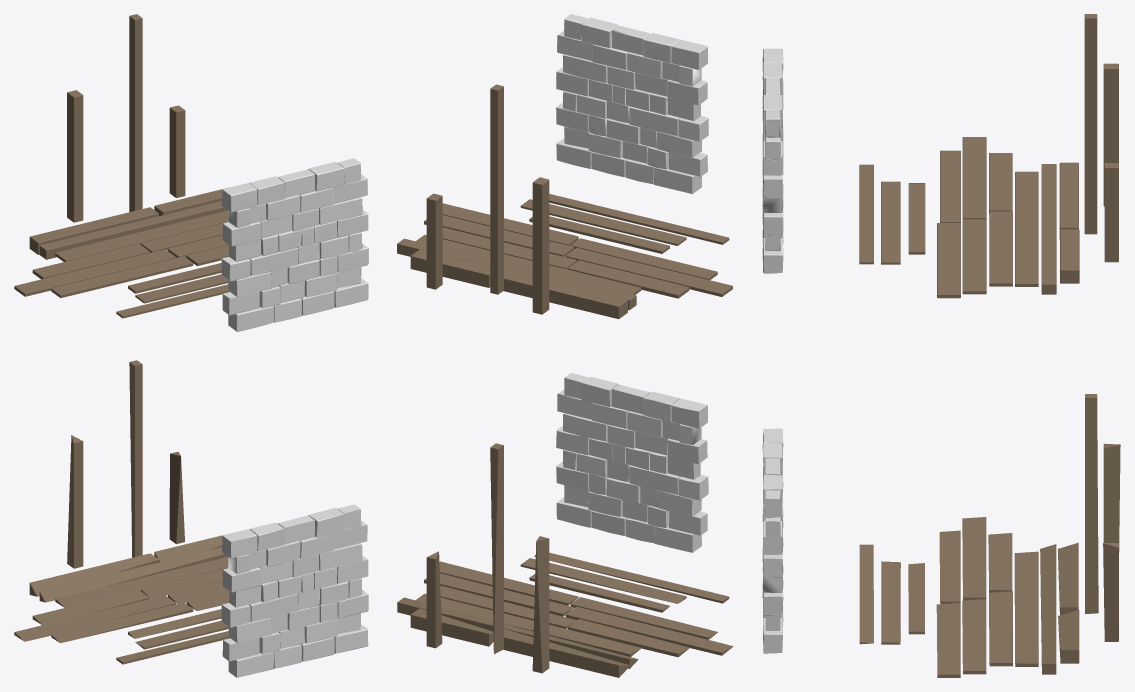
The model's file is Single_Pieces_A.fbx.
The picture shows the model from 3 angles, left to right: view 1: azimuth 30°, elevation 25°; view 2: azimuth 150°, elevation 25°; view 3: azimuth 270°, elevation 25°; orthographic projection. The views are drawn at different scales.
Visible parts, largest first — view 1: Wood_Beam_1A1, Wood_Beam_1A1.001, Wood_Beam_1A4, Wood_Beam_1A2, Wood_Beam_1A4.001, Wood_Plank_1A1, Wood_Plank_1A1.001, Wood_Beam_1A2.001, Wood_Plank_1A5, Wood_Plank_1A5.001, Wood_Plank_1A6, Wood_Plank_1A6.001 (+62 smaller); view 2: Wood_Beam_1A1, Wood_Beam_1A1.001, Wood_Beam_1A2, Wood_Beam_1A5, Wood_Beam_1A2.001, Wood_Plank_1A5, Wood_Plank_1A5.001, Wood_Plank_1A1.001, Wood_Beam_1A5.001, Wood_Beam_1A4.001, Wood_Beam_1A4, Wood_Plank_1A10 (+70 smaller); view 3: Wood_Beam_1A1, Wood_Beam_1A1.001, Wood_Plank_1A1.001, Wood_Plank_1A1, Wood_Beam_1A4.001, Wood_Beam_1A4, Wood_Plank_1A5, Wood_Plank_1A5.001, Wood_Plank_1A4, Wood_Plank_1A4.001, Wood_Plank_1A3, Wood_Plank_1A7 (+21 smaller).
Part boxes in pixels (x1,y1,x2,y2): Wood_Beam_1A1: (129, 14, 142, 212); Wood_Beam_1A1.001: (129, 360, 142, 557); Wood_Beam_1A4: (39, 201, 227, 259); Wood_Beam_1A2: (67, 90, 83, 222); Wood_Beam_1A4.001: (39, 547, 227, 602); Wood_Plank_1A1: (55, 210, 228, 261); Wood_Plank_1A1.001: (55, 556, 228, 607); Wood_Beam_1A2.001: (67, 435, 83, 568); Wood_Plank_1A5: (14, 249, 175, 296); Wood_Plank_1A5.001: (14, 595, 175, 641); Wood_Plank_1A6: (51, 256, 193, 297); Wood_Plank_1A6.001: (51, 602, 193, 643); Wood_Beam_1A1: (490, 84, 503, 294); Wood_Beam_1A1.001: (490, 443, 503, 654); Wood_Beam_1A2: (532, 177, 549, 314); Wood_Beam_1A5: (503, 270, 627, 319); Wood_Beam_1A2.001: (532, 536, 549, 673); Wood_Plank_1A5: (565, 248, 732, 296); Wood_Plank_1A5.001: (565, 606, 733, 655); Wood_Plank_1A1.001: (416, 593, 641, 656); Wood_Beam_1A5.001: (503, 629, 630, 677); Wood_Beam_1A4.001: (397, 597, 638, 668); Wood_Beam_1A4: (397, 238, 636, 310); Wood_Plank_1A10: (549, 194, 729, 244); Wood_Beam_1A1: (1084, 14, 1097, 234); Wood_Beam_1A1.001: (1085, 394, 1098, 613); Wood_Plank_1A1.001: (1014, 551, 1038, 666); Wood_Plank_1A1: (1015, 171, 1038, 286); Wood_Beam_1A4.001: (1040, 544, 1056, 674); Wood_Beam_1A4: (1041, 164, 1056, 294); Wood_Plank_1A5: (962, 137, 986, 219); Wood_Plank_1A5.001: (962, 517, 986, 600); Wood_Plank_1A4: (962, 219, 986, 294); Wood_Plank_1A4.001: (962, 599, 986, 674); Wood_Plank_1A3: (989, 211, 1012, 286); Wood_Plank_1A7: (937, 223, 960, 298).
Size of the model in its own units: 893 by 1580 by 854.
